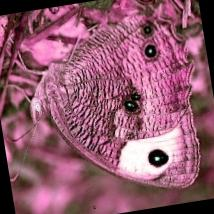butterfly: (30, 11, 200, 187)
